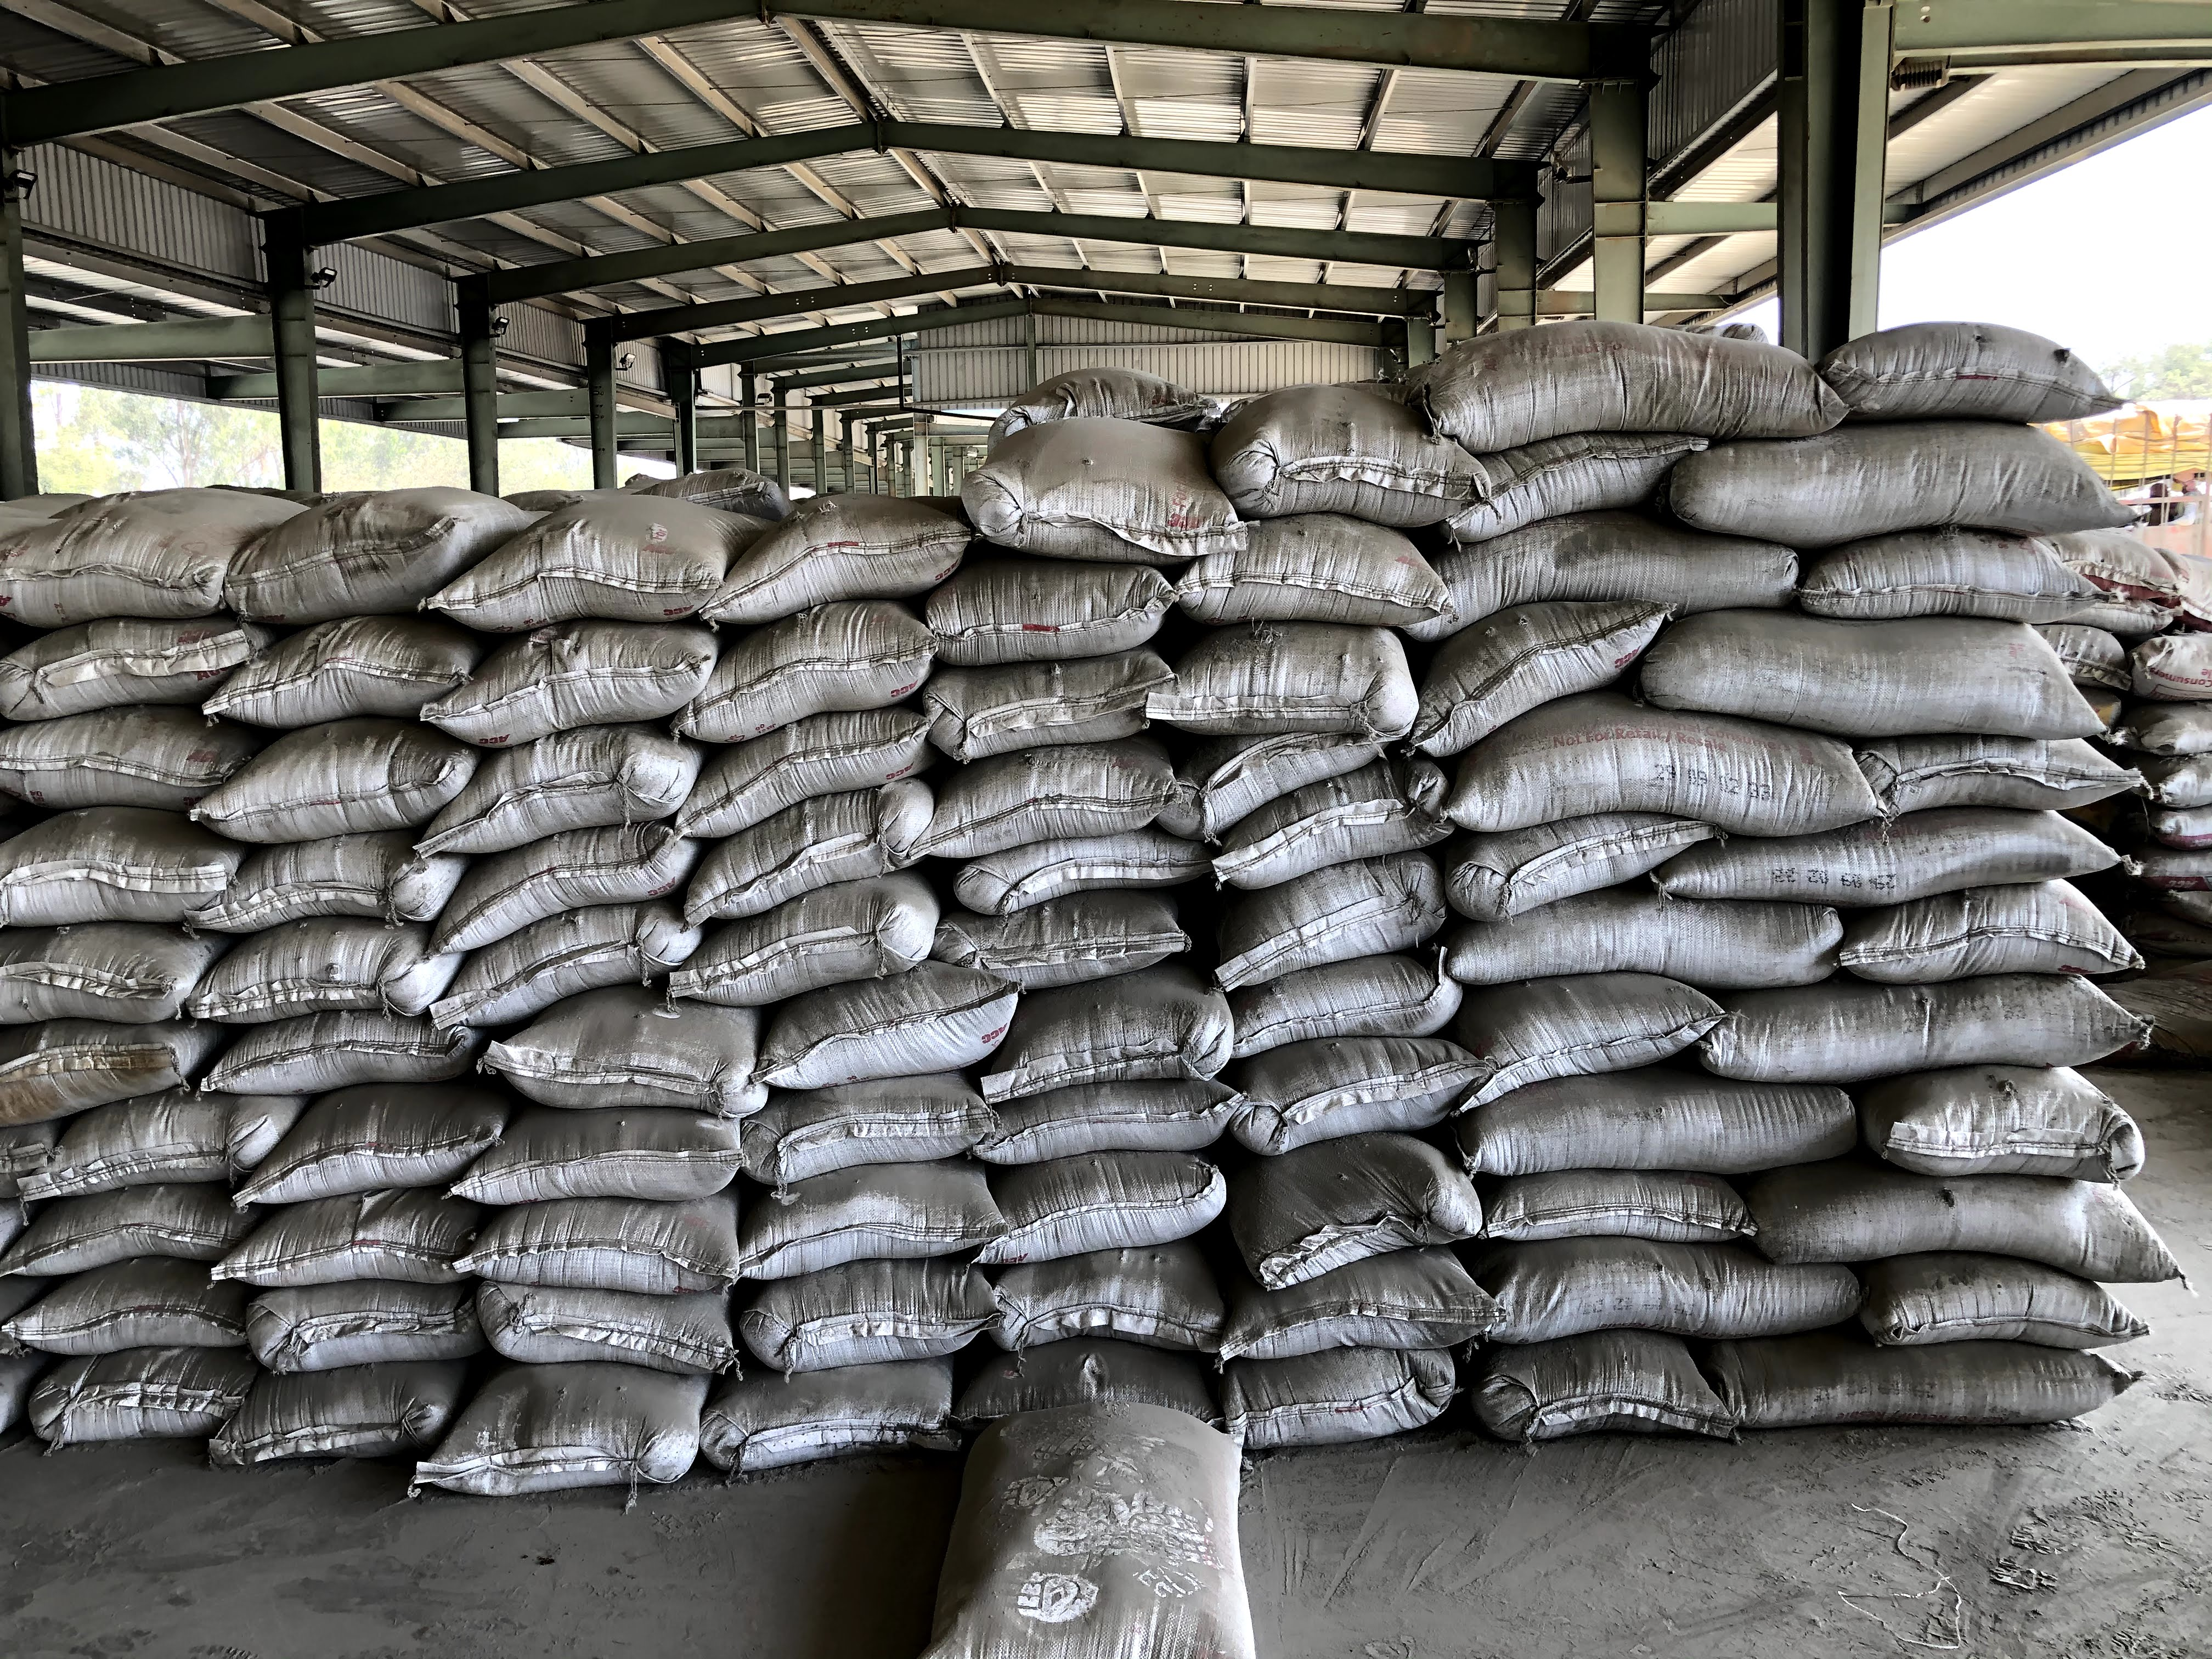cement bag: (913, 1415, 1233, 1659), (1667, 613, 2135, 732), (934, 432, 1228, 584), (1449, 1089, 1886, 1187), (1735, 979, 2153, 1080), (444, 1377, 733, 1511), (1672, 432, 2116, 518), (495, 1066, 747, 1211), (1453, 329, 1843, 422), (470, 1269, 759, 1387), (451, 512, 733, 627), (430, 819, 685, 946), (10, 493, 254, 626), (1886, 1089, 2182, 1190), (946, 556, 1195, 674), (1825, 542, 2153, 631), (1721, 823, 2144, 890), (733, 1382, 956, 1511), (2, 622, 254, 735), (1719, 1363, 2144, 1429), (1757, 1190, 2182, 1256), (1843, 329, 2116, 432), (688, 915, 1022, 999), (1256, 1127, 1461, 1262), (1238, 406, 1470, 523), (1160, 636, 1449, 728), (688, 795, 909, 915), (1453, 613, 1667, 735), (765, 999, 1022, 1100), (1491, 728, 1911, 789), (1458, 540, 1810, 612), (249, 1105, 475, 1215), (998, 1239, 1214, 1354), (1204, 535, 1449, 636), (446, 631, 712, 723), (244, 512, 441, 636), (204, 843, 451, 941), (1883, 1272, 2144, 1363), (984, 985, 1195, 1096), (1256, 1262, 1510, 1354), (745, 1185, 984, 1283), (1463, 999, 1714, 1091), (26, 1105, 230, 1218), (16, 904, 207, 1025), (235, 636, 441, 748), (204, 941, 469, 1025), (721, 617, 913, 732), (1911, 728, 2144, 823), (1238, 967, 1449, 1070), (7, 713, 221, 812), (946, 674, 1195, 760), (745, 1283, 956, 1382), (1458, 910, 1818, 967), (235, 748, 451, 843), (16, 800, 207, 904), (1463, 824, 1709, 903), (765, 1100, 984, 1185), (1527, 1272, 1883, 1324), (430, 946, 688, 1018), (984, 1096, 1238, 1168), (946, 760, 1172, 838), (249, 1025, 469, 1105), (998, 1168, 1238, 1239), (1231, 1347, 1453, 1424), (1508, 1349, 1719, 1429), (251, 1373, 435, 1464), (745, 518, 913, 617), (16, 1215, 240, 1286), (470, 1211, 747, 1269), (0, 1025, 207, 1101), (244, 1215, 475, 1283), (979, 1354, 1233, 1415), (991, 838, 1172, 924), (1853, 924, 2144, 976), (1505, 1199, 1757, 1256), (51, 1300, 249, 1371), (465, 755, 685, 819), (1261, 1058, 1461, 1127), (1211, 805, 1437, 866), (1228, 910, 1449, 967), (495, 1018, 752, 1066), (991, 924, 1195, 985), (244, 1283, 465, 1338), (721, 732, 909, 795), (1475, 464, 1672, 518), (40, 1371, 249, 1420), (1205, 737, 1353, 784)
